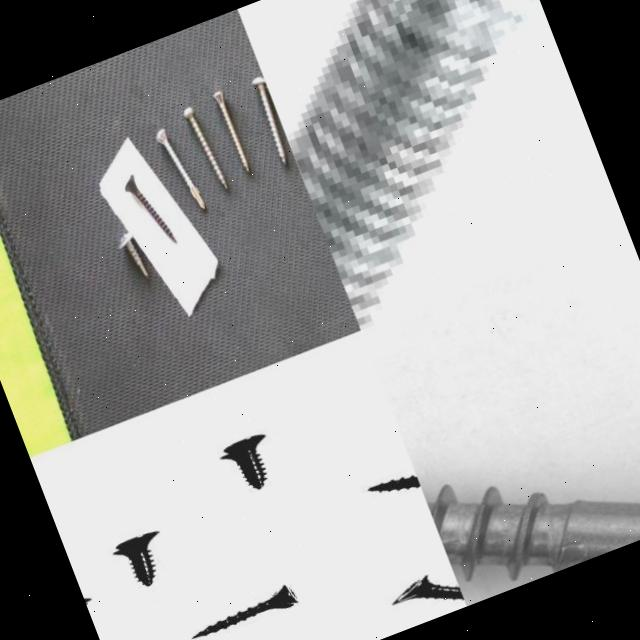Screw: (292, 0, 549, 330), (407, 347, 640, 605), (174, 405, 315, 521), (193, 584, 299, 637), (156, 128, 205, 209), (183, 106, 227, 188), (124, 174, 176, 243), (213, 90, 250, 172), (252, 75, 286, 164), (113, 530, 160, 585), (395, 575, 464, 604), (119, 232, 147, 277), (370, 474, 421, 491)
